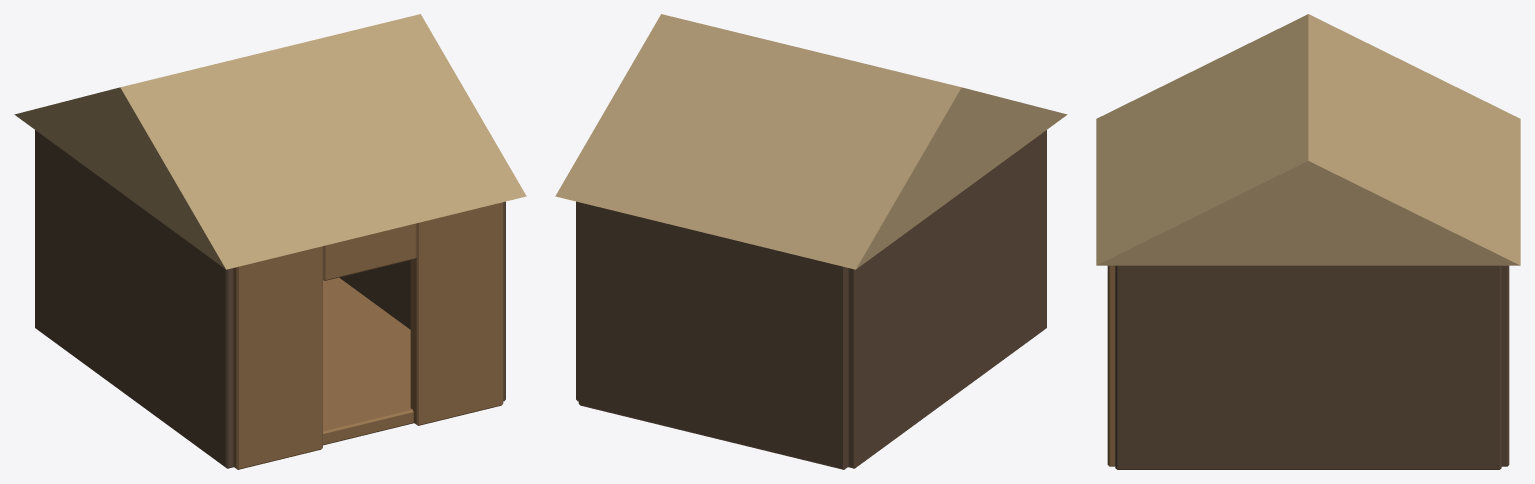
The model's file is harbor-beach-hut.lod0.glb.
3 renders of one model, left to right at view 1: azimuth 30°, elevation 25°; view 2: azimuth 150°, elevation 25°; view 3: azimuth 270°, elevation 25°, orthographic.
Parts seen in each view (by area): view 1: harbor-beach-hut__roof, harbor-beach-hut__body, harbor-beach-hut__front-wall; view 2: harbor-beach-hut__body, harbor-beach-hut__roof; view 3: harbor-beach-hut__roof, harbor-beach-hut__body, harbor-beach-hut__front-wall.
Boxes of the visible parts, bbox=[...] form: harbor-beach-hut__roof: bbox=[14, 14, 526, 269]; harbor-beach-hut__body: bbox=[35, 130, 505, 468]; harbor-beach-hut__front-wall: bbox=[233, 202, 503, 469]; harbor-beach-hut__body: bbox=[576, 130, 1046, 469]; harbor-beach-hut__roof: bbox=[555, 14, 1067, 269]; harbor-beach-hut__roof: bbox=[1096, 14, 1520, 265]; harbor-beach-hut__body: bbox=[1115, 265, 1509, 469]; harbor-beach-hut__front-wall: bbox=[1107, 265, 1115, 466].
Size of the model in its own units: 4.5 by 4.5 by 5.5.
